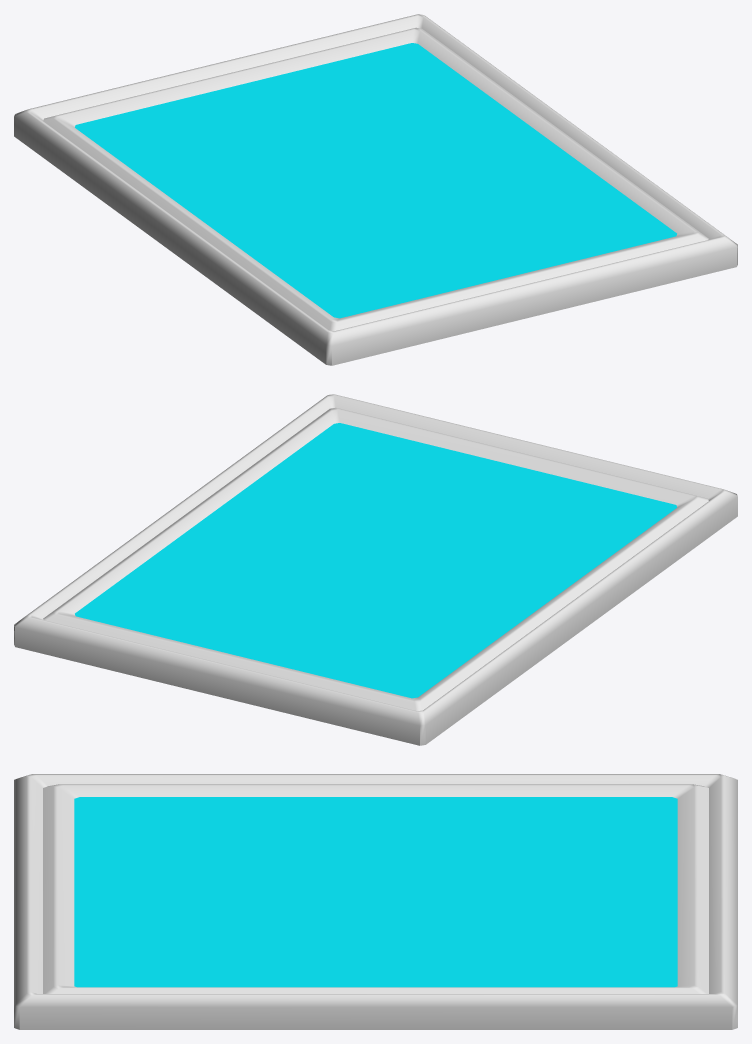
Rendered from PaintingF.fbx.
3 views of the same model, one above another, from view 1: azimuth 30°, elevation 25°; view 2: azimuth 150°, elevation 25°; view 3: azimuth 270°, elevation 25° (orthographic). The views are drawn at different scales.
Parts seen in each view (by area): view 1: PaintingF; view 2: PaintingF; view 3: PaintingF.
Boxes of the visible parts, box(x1,y1,x2,y2) form: PaintingF: box(14, 14, 737, 365); PaintingF: box(14, 394, 737, 745); PaintingF: box(14, 774, 737, 1029).
Bounding box in the file's own units: 53.98 × 3.36 × 71.97.
